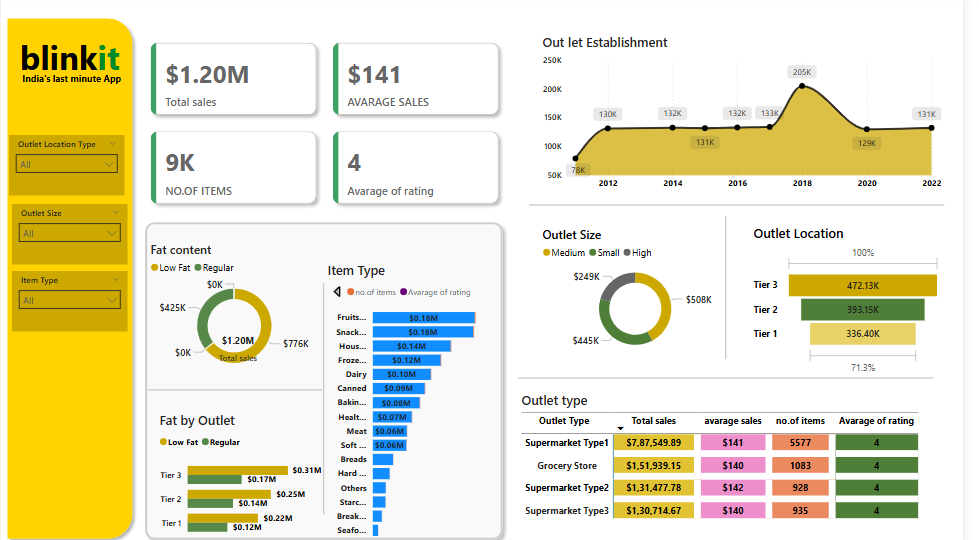

The dashboard page shown, as its layout file describes it:
{"tool":"powerbi","page":{"name":"Page 1","canvas":[1400,800],"ordinal":0},"visuals":[{"type":"shape","box":[0,23.9,200.3,775.3],"z":0},{"type":"textbox","box":[11.4,50.6,176.3,81.6],"z":1000},{"type":"textbox","box":[19.6,106.1,168.2,37.6],"z":2000},{"type":"cardVisual","fields":{"Data":["BlinkIT Grocery Data.Total sales","BlinkIT Grocery Data.avarage sales","BlinkIT Grocery Data.no.of items","BlinkIT Grocery Data.Avarage of rating"]},"box":[200.8,50.6,540.4,269.4],"z":3000},{"type":"shape","box":[200,320,538,480],"z":4000},{"type":"donutChart","title":"Fat content","fields":{"Y":["BlinkIT Grocery Data.Total sales","BlinkIT Grocery Data.avarage sales","BlinkIT Grocery Data.no.of items","BlinkIT Grocery Data.Avarage of rating"],"Category":["BlinkIT Grocery Data.Item Fat Content"]},"box":[212,356,254,200],"z":6000},{"type":"card","fields":{"Values":["BlinkIT Grocery Data.Total sales"]},"box":[310.5,485,69.8,55.1],"z":7000},{"type":"clusteredBarChart","title":"Fat by Outlet","fields":{"Y":["BlinkIT Grocery Data.Total sales"],"Category":["BlinkIT Grocery Data.Outlet Location Type"],"Series":["BlinkIT Grocery Data.Item Fat Content"]},"box":[226,604,246,196],"z":8000},{"type":"shape","box":[213.1,560.4,253.5,25.7],"z":9000},{"type":"shape","box":[433.6,417.1,71.7,336.2],"z":10000},{"type":"barChart","title":"Item Type","fields":{"Y":["BlinkIT Grocery Data.Total sales","BlinkIT Grocery Data.avarage sales","BlinkIT Grocery Data.no.of items","BlinkIT Grocery Data.Avarage of rating"],"Category":["BlinkIT Grocery Data.Item Type"]},"box":[470.3,385.8,242.5,413.4],"z":11000},{"type":"lineChart","title":"Out let Establishment","fields":{"Category":["BlinkIT Grocery Data.Outlet Establishment Year"],"Y":["Sum(BlinkIT Grocery Data.Sales)"]},"box":[782,54,590,236],"z":12000},{"type":"donutChart","title":"Outlet Size","fields":{"Y":["BlinkIT Grocery Data.Total sales"],"Category":["BlinkIT Grocery Data.Outlet Size"]},"box":[782,334,280,194],"z":13000},{"type":"funnel","title":"Outlet Location","fields":{"Y":["Sum(BlinkIT Grocery Data.Sales)"],"Category":["BlinkIT Grocery Data.Outlet Location Type"]},"box":[1090,332,282,224],"z":14000},{"type":"pivotTable","title":"Outlet type","fields":{"Rows":["BlinkIT Grocery Data.Outlet Type"],"Values":["BlinkIT Grocery Data.Total sales","BlinkIT Grocery Data.avarage sales","BlinkIT Grocery Data.no.of items","BlinkIT Grocery Data.Avarage of rating"]},"box":[752,574,604,226],"z":15000},{"type":"slicer","fields":{"Values":["BlinkIT Grocery Data.Outlet Location Type"]},"box":[12,202,168,88],"z":16000},{"type":"slicer","fields":{"Values":["BlinkIT Grocery Data.Outlet Size"]},"box":[16,302,168,88],"z":17000},{"type":"slicer","fields":{"Values":["BlinkIT Grocery Data.Item Type"]},"box":[16,400,168,88],"z":18000},{"type":"shape","box":[768,288,604,32],"z":19000},{"type":"shape","box":[1018,320,72,208],"z":20000},{"type":"shape","box":[752,540,604,32],"z":21000}]}

Visuals, with their boxes on the page's 1400x800 design canvas (x1, y1, x2, y2). These are canvas units, not pixel positions in the 979x540 screenshot, which may show the page scaled, cropped or inside an application window:
shape: [0,24,200,799]
textbox: [11,51,188,132]
textbox: [20,106,188,144]
cardVisual - BlinkIT Grocery Data.Total sales x BlinkIT Grocery Data.avarage sales: [201,51,741,320]
shape: [200,320,738,800]
"Fat content" donutChart: [212,356,466,556]
card - BlinkIT Grocery Data.Total sales: [310,485,380,540]
"Fat by Outlet" clusteredBarChart: [226,604,472,800]
shape: [213,560,467,586]
shape: [434,417,505,753]
"Item Type" barChart: [470,386,713,799]
"Out let Establishment" lineChart: [782,54,1372,290]
"Outlet Size" donutChart: [782,334,1062,528]
"Outlet Location" funnel: [1090,332,1372,556]
"Outlet type" pivotTable: [752,574,1356,800]
slicer - BlinkIT Grocery Data.Outlet Location Type: [12,202,180,290]
slicer - BlinkIT Grocery Data.Outlet Size: [16,302,184,390]
slicer - BlinkIT Grocery Data.Item Type: [16,400,184,488]
shape: [768,288,1372,320]
shape: [1018,320,1090,528]
shape: [752,540,1356,572]
